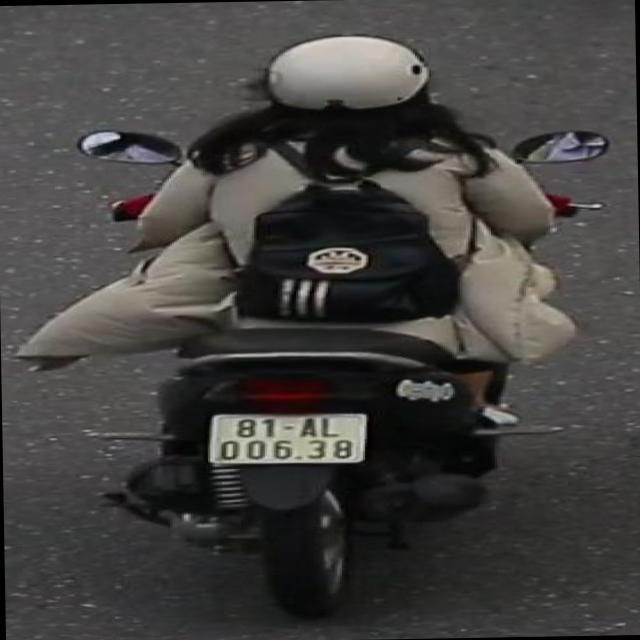LP: (201, 404, 375, 467)
helmet: (246, 25, 469, 147)
